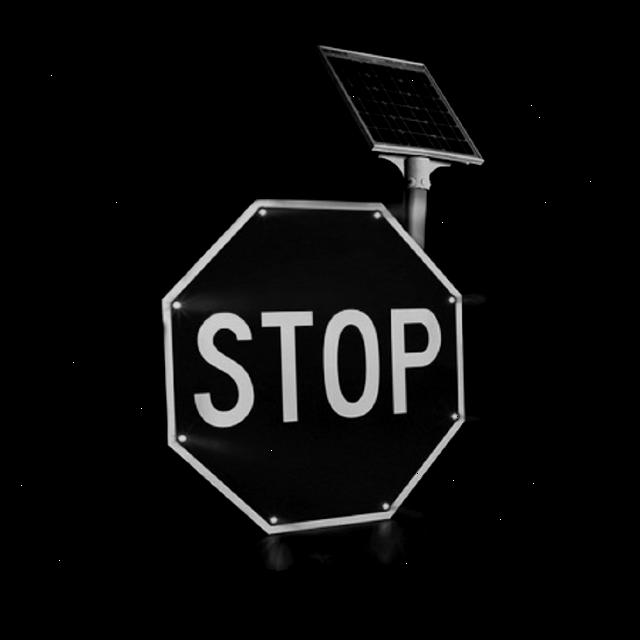Stop-sign: (153, 181, 502, 551)
